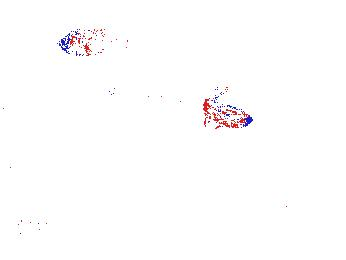X-ray fish: (58, 25, 117, 57)
red belly glassfish: (203, 89, 255, 130)
redtail glassfish: (98, 77, 183, 107), (6, 207, 42, 250), (112, 120, 135, 156)
